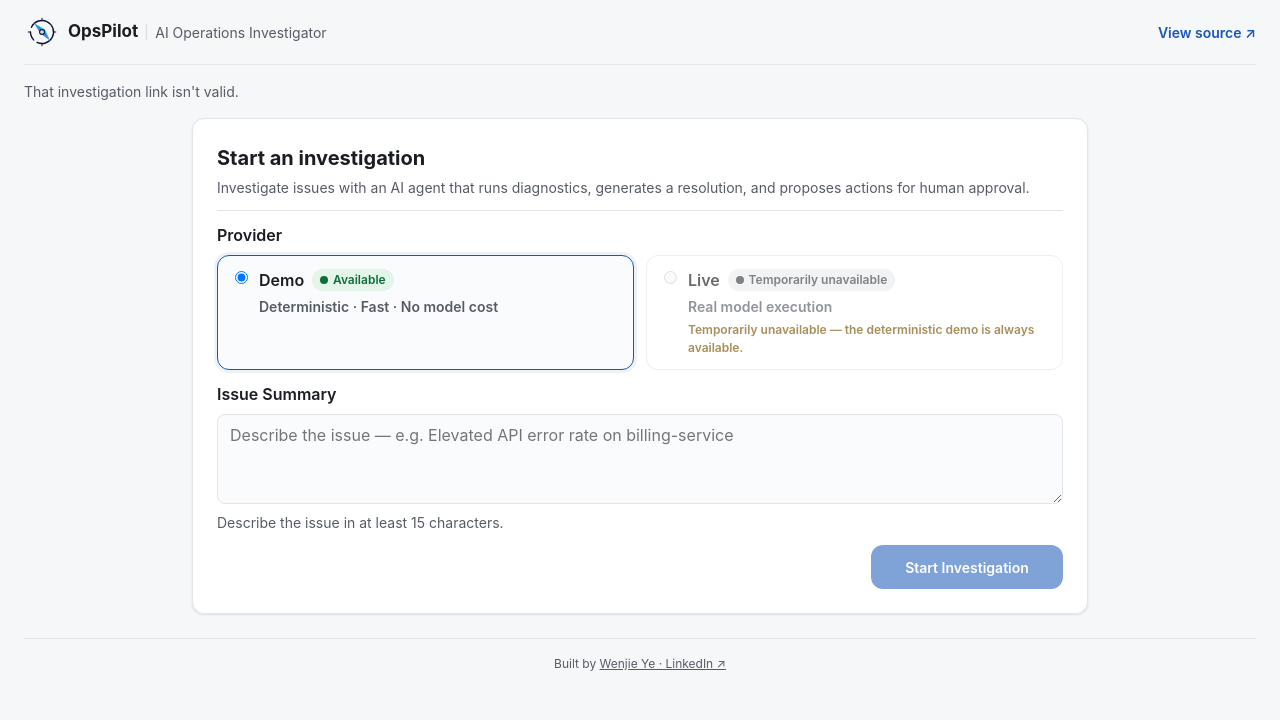
Test: Terminal settlement coordinator (#38) › poll observes COMPLETED first; a late POST observes FAILED for the same run — first state preserved, safe notice, no second settlement
Type "Elevated error rate" into the text box labelled "Issue Summary".
click(640, 459); type("Elevated error rate")  # box [217,414,1063,504]
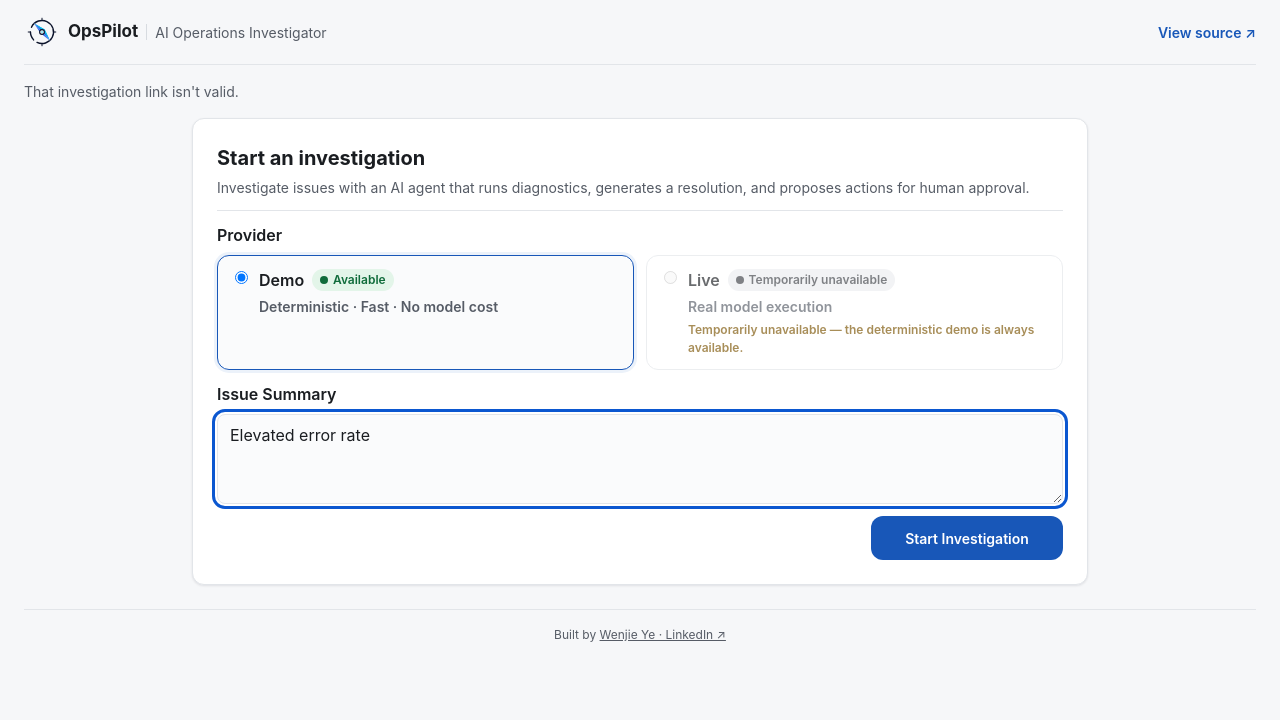
Click the button "Start Investigation".
click(967, 538)  # box [871,516,1063,560]
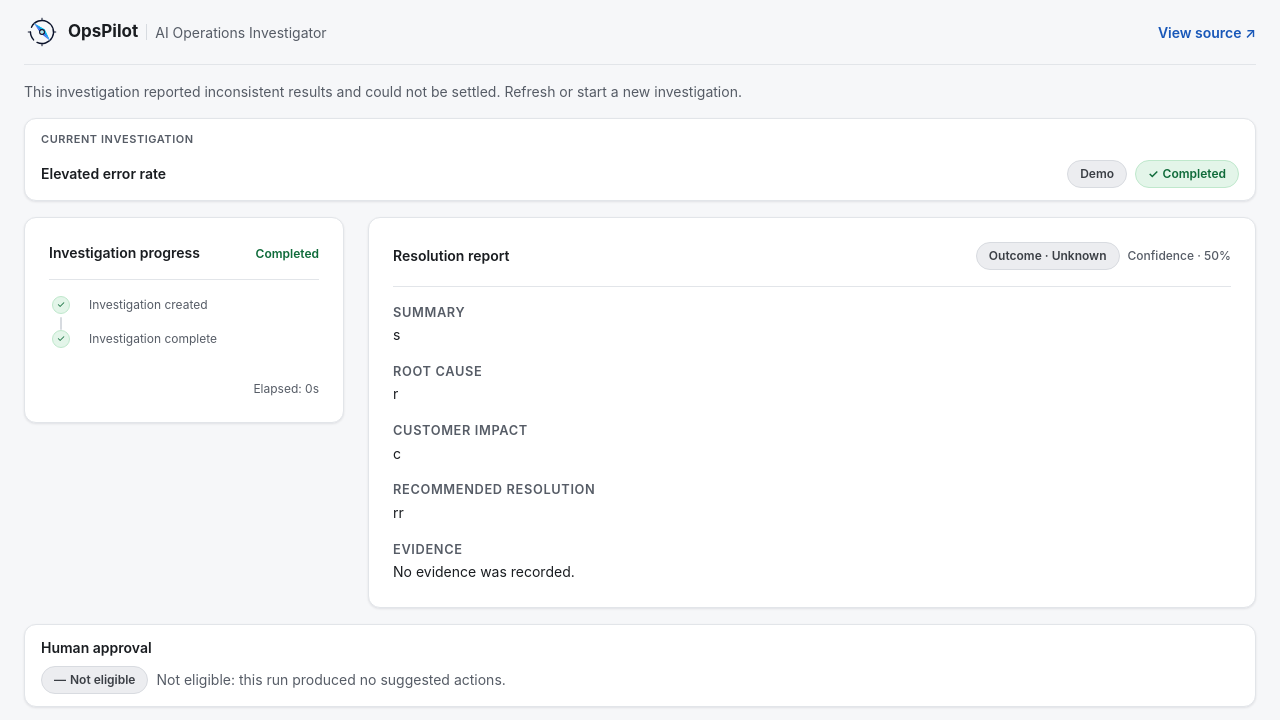
Expected: the message shows "This investigation reported inconsistent results and could not be settled. Refresh or start a new investigation.", [24,83,742,100]
Expected: the text "No evidence was recorded." is shown, [393,563,575,580]
